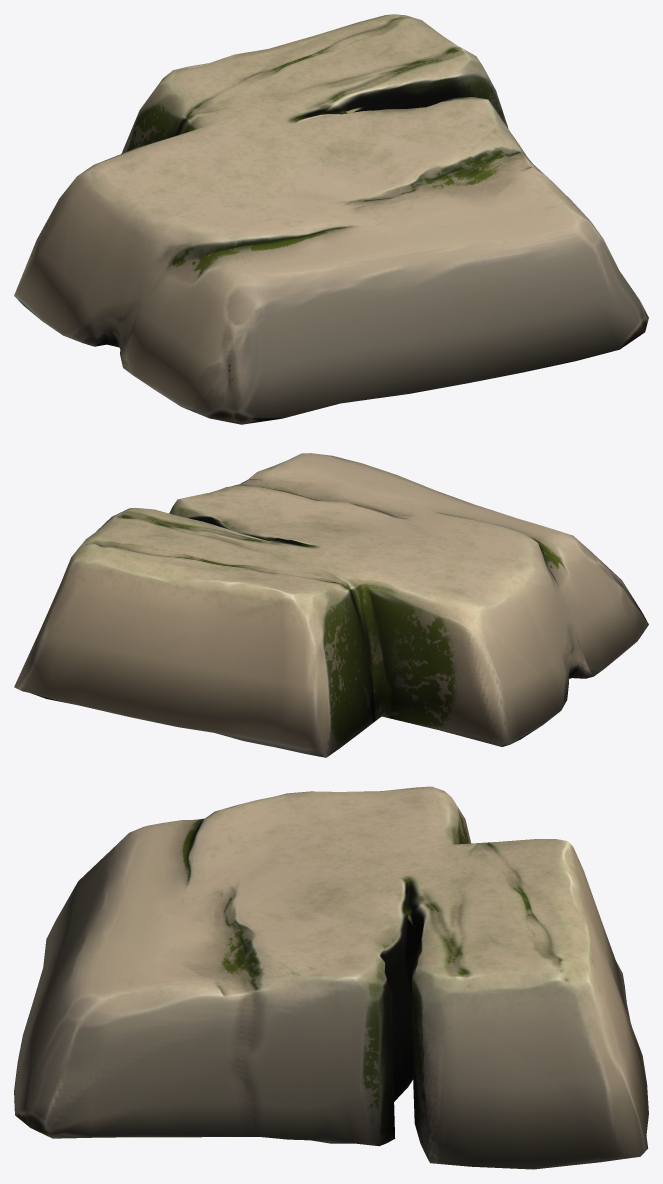
Rendered from SM_Rock_00.fbx.
3 renders of one model, top to bottom at view 1: azimuth 30°, elevation 25°; view 2: azimuth 150°, elevation 25°; view 3: azimuth 270°, elevation 25°, orthographic. The views are drawn at different scales.
Visible parts, largest first — view 1: Rock_00_LOD0; view 2: Rock_00_LOD0; view 3: Rock_00_LOD0.
Boxes of the visible parts, box(x1,y1,x2,y2) form: Rock_00_LOD0: box(14, 14, 648, 424); Rock_00_LOD0: box(14, 453, 648, 757); Rock_00_LOD0: box(14, 786, 648, 1169).
Size of what is drawn, in the model's own units: 96.2 by 28.7 by 94.9.
